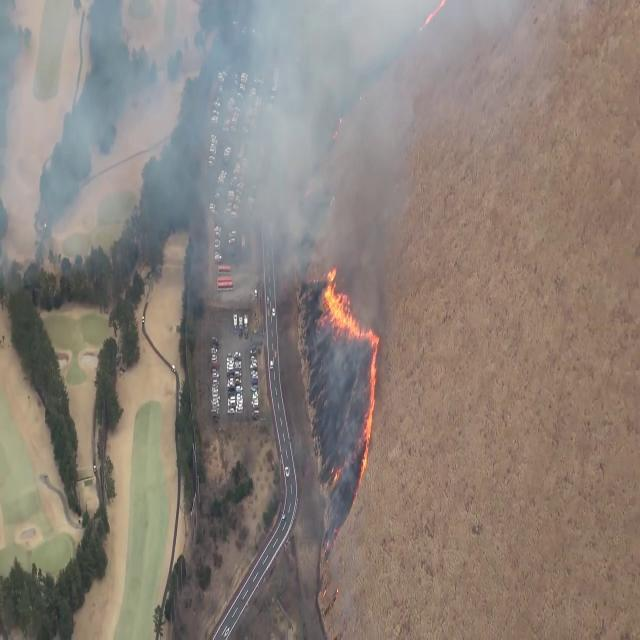Fire: (318, 264, 359, 342), (360, 318, 380, 466)
Smoke: (154, 0, 429, 304)
